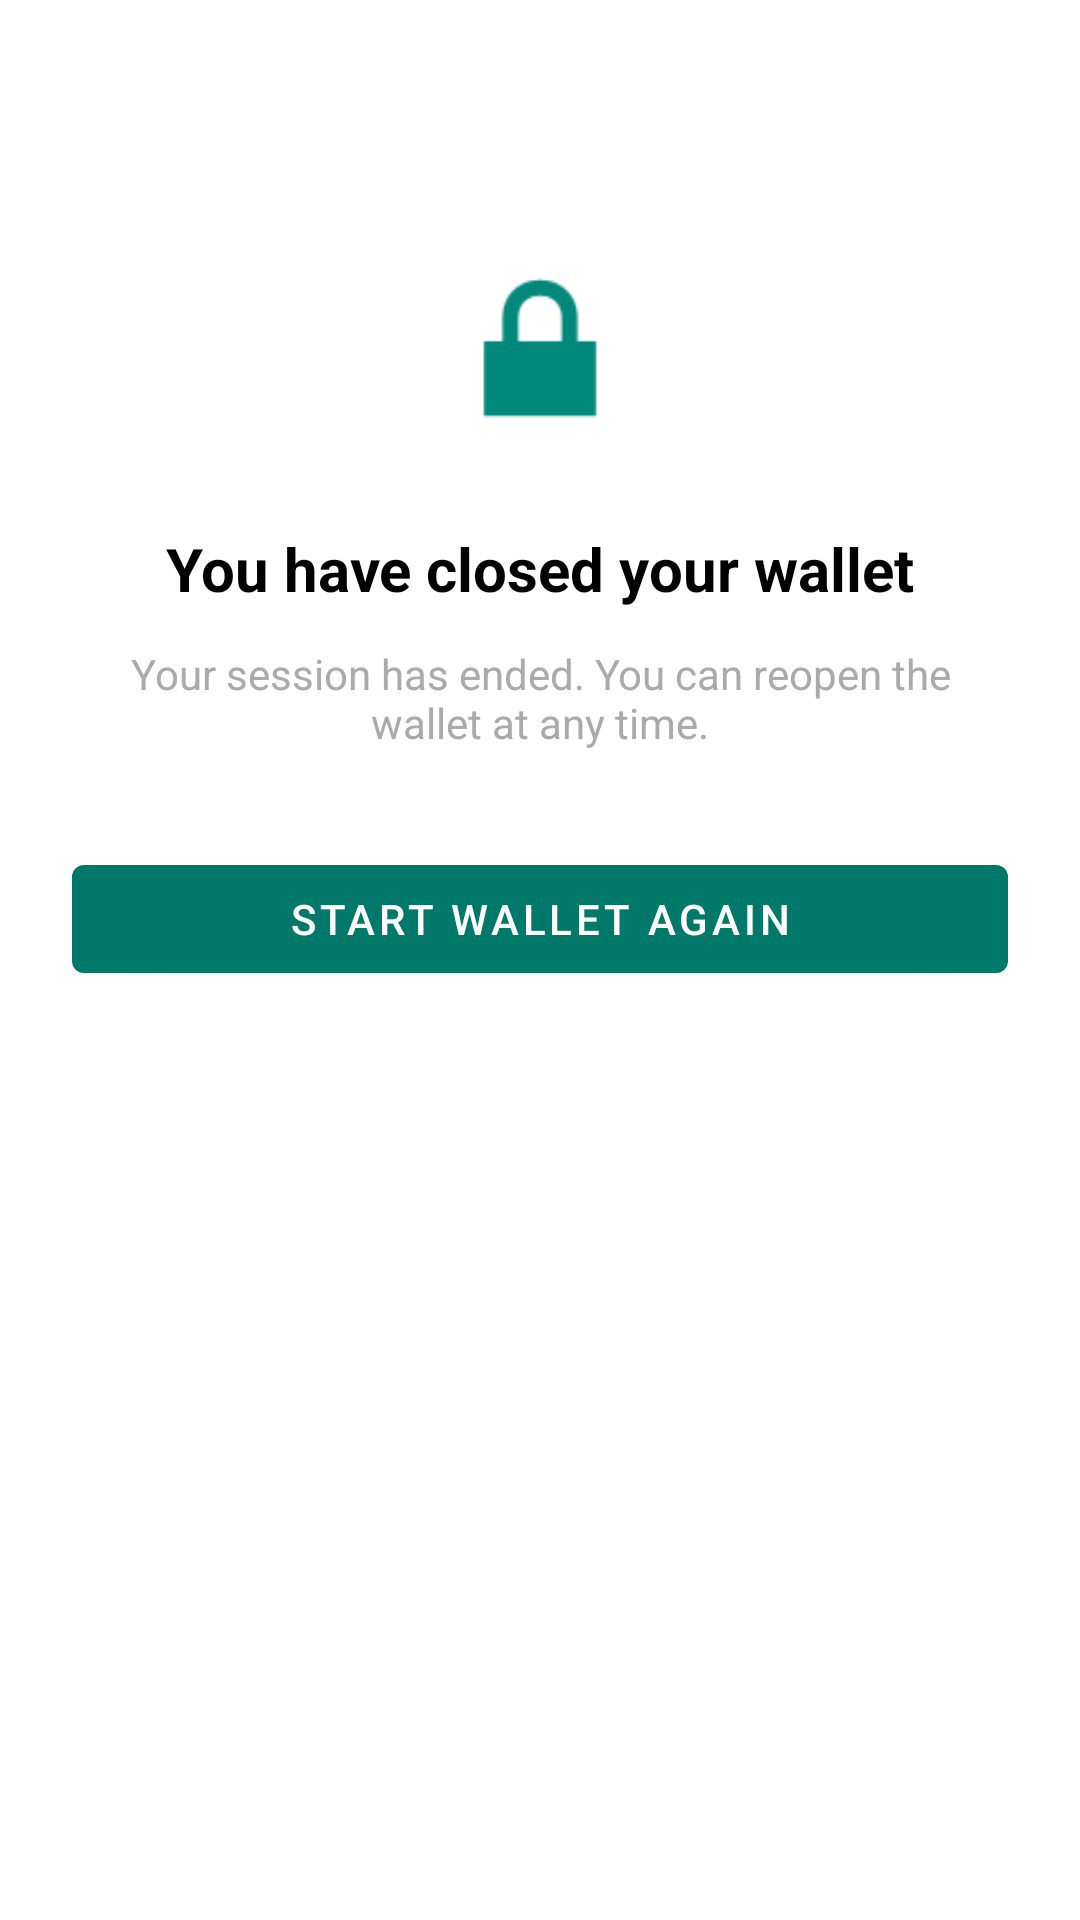

Icons on this 1080 x 1920 Android screen, each with its box as (x1,y1,x2,y2):
lock: (483,278,597,418)
